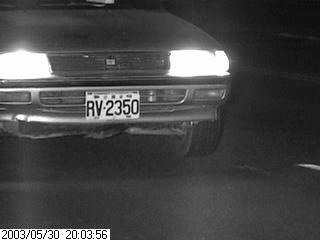plate: (84, 90, 142, 120)
